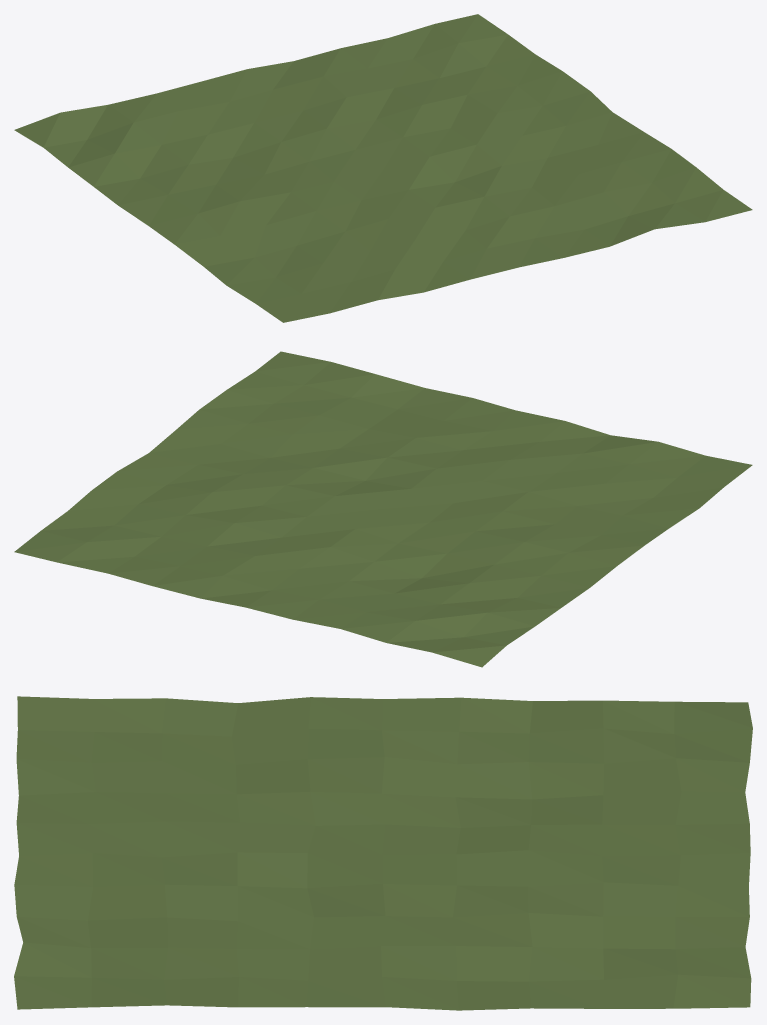
The model's file is ground.obj.
The picture shows the model from 3 angles, top to bottom: view 1: azimuth 30°, elevation 25°; view 2: azimuth 150°, elevation 25°; view 3: azimuth 270°, elevation 25°; orthographic projection. The views are drawn at different scales.
Visible parts, largest first — view 1: Plane_Plane.001; view 2: Plane_Plane.001; view 3: Plane_Plane.001.
Boxes of the visible parts, box(x1,y1,x2,y2) form: Plane_Plane.001: box(14, 14, 752, 322); Plane_Plane.001: box(14, 351, 752, 667); Plane_Plane.001: box(14, 696, 752, 1010).
Bounding box in the file's own units: 101 × 1.79 × 101.
Materials: 1 (1 with a texture image).
